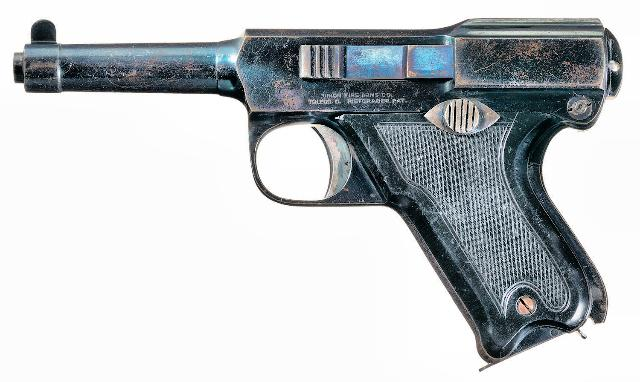pistol: (17, 18, 621, 374)
